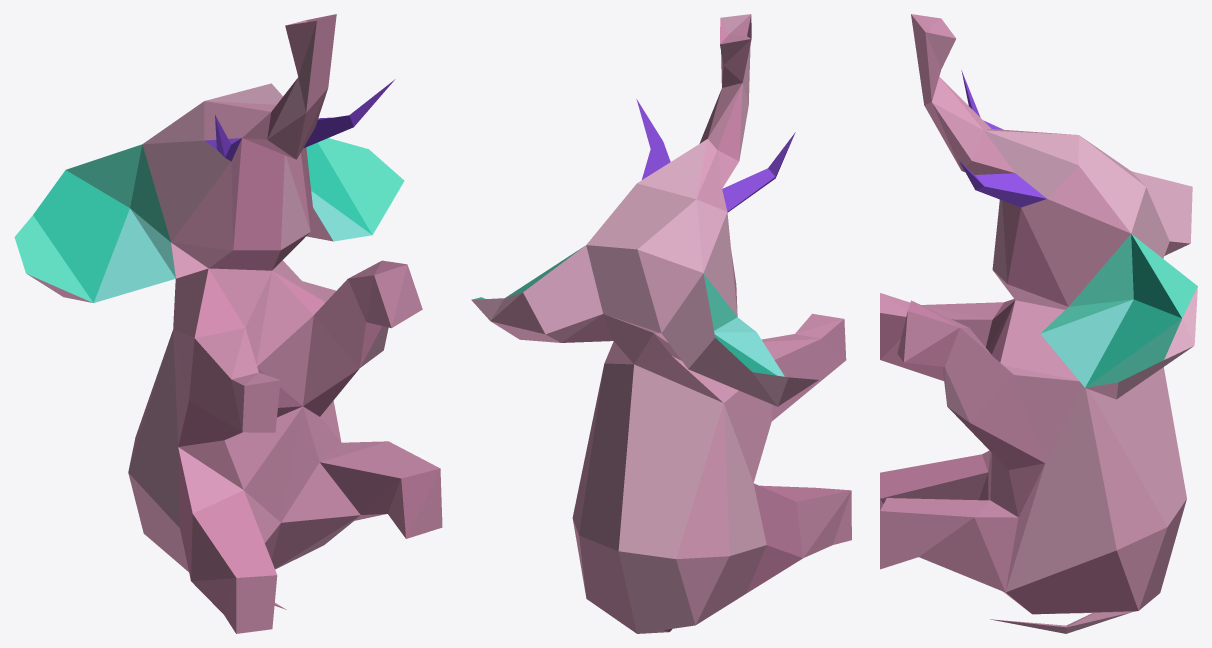
Rendered from elephant.fbx.
3 renders of one model, left to right at view 1: azimuth 30°, elevation 25°; view 2: azimuth 150°, elevation 25°; view 3: azimuth 270°, elevation 25°, orthographic. The views are drawn at different scales.
Parts seen in each view (by area): view 1: Cylinder.003; view 2: Cylinder.003; view 3: Cylinder.003.
Part boxes in pixels (box(x1,y1,x2,y2)): Cylinder.003: box(14, 14, 442, 633); Cylinder.003: box(471, 14, 851, 633); Cylinder.003: box(880, 14, 1197, 633).
Bounding box in the file's own units: 255 × 410 × 192.
